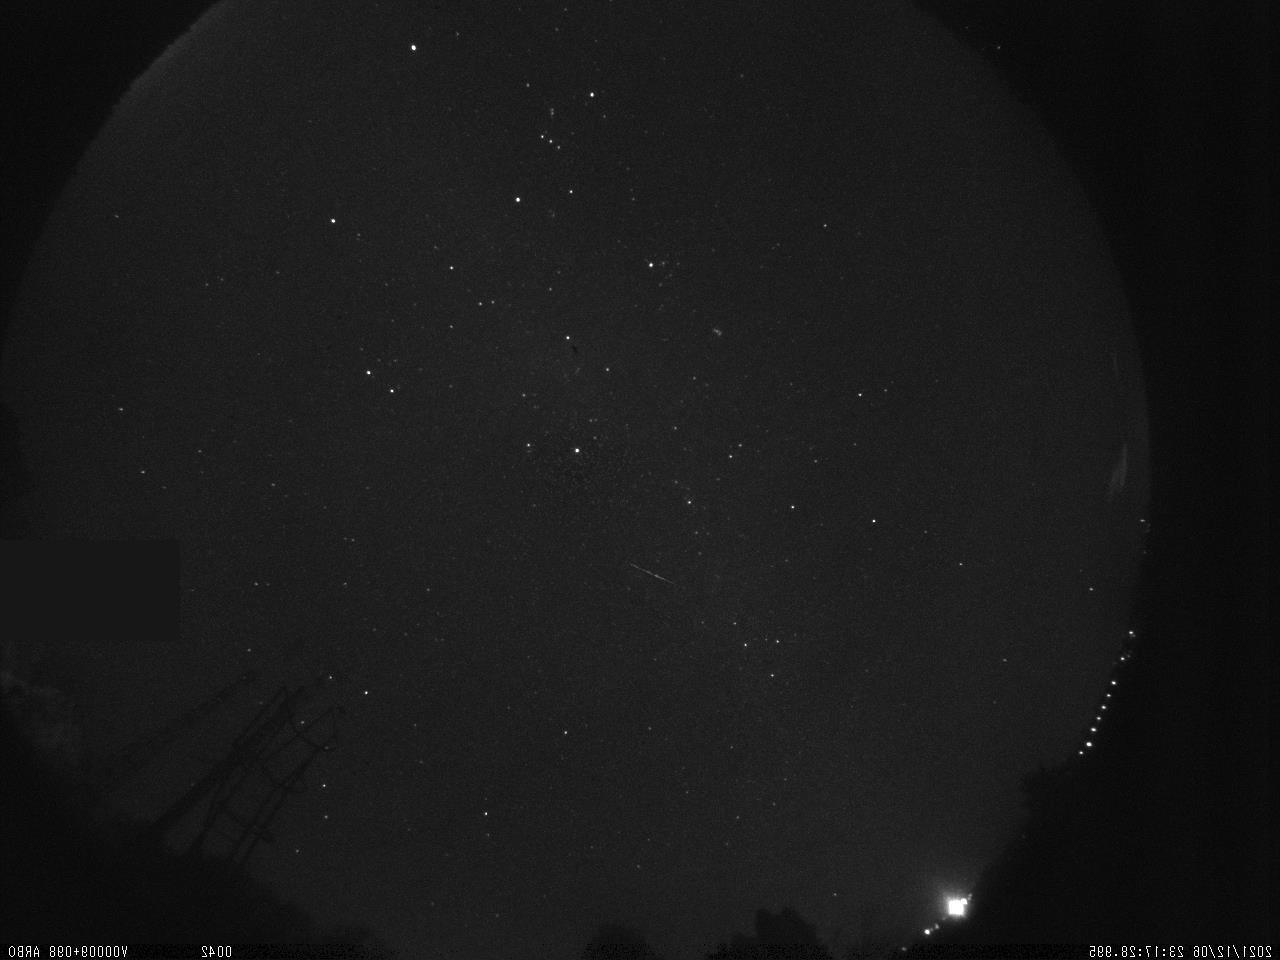meteor: (615, 554, 689, 596)
